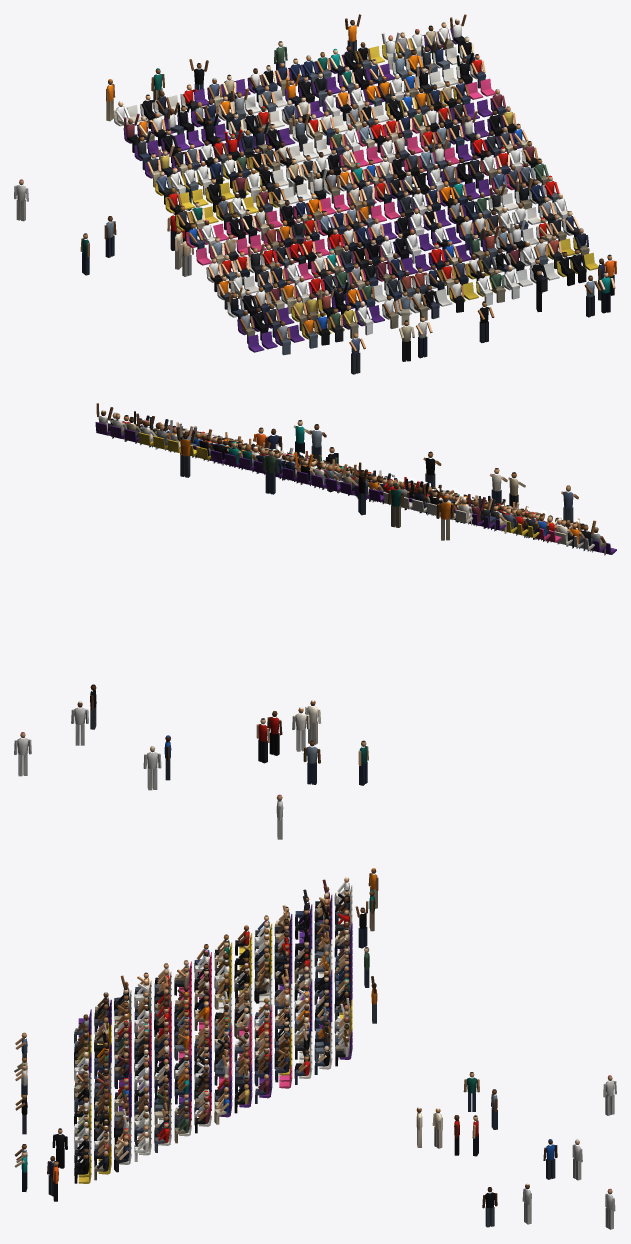
File: stand_main_kit_3.glb
3 views of the same model, one above another, from view 1: azimuth 30°, elevation 25°; view 2: azimuth 150°, elevation 25°; view 3: azimuth 270°, elevation 25° (orthographic). The views are drawn at different scales.
Visible parts, largest first — view 1: kit_3; view 2: kit_3; view 3: kit_3.
Part boxes in pixels (box(x1,y1,x2,y2)): kit_3: box(14, 14, 616, 374); kit_3: box(14, 403, 616, 839); kit_3: box(14, 868, 616, 1229).
Bounding box in the file's own units: 15.87 × 10.3 × 24.05.
